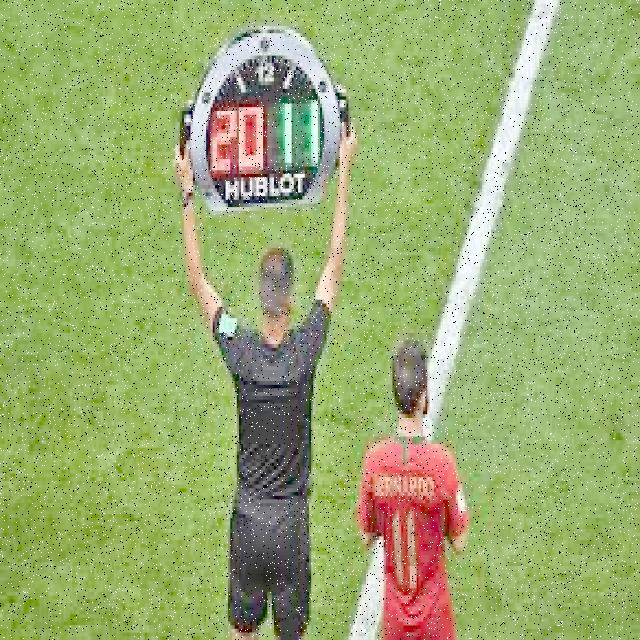substitution: (180, 27, 358, 220)
